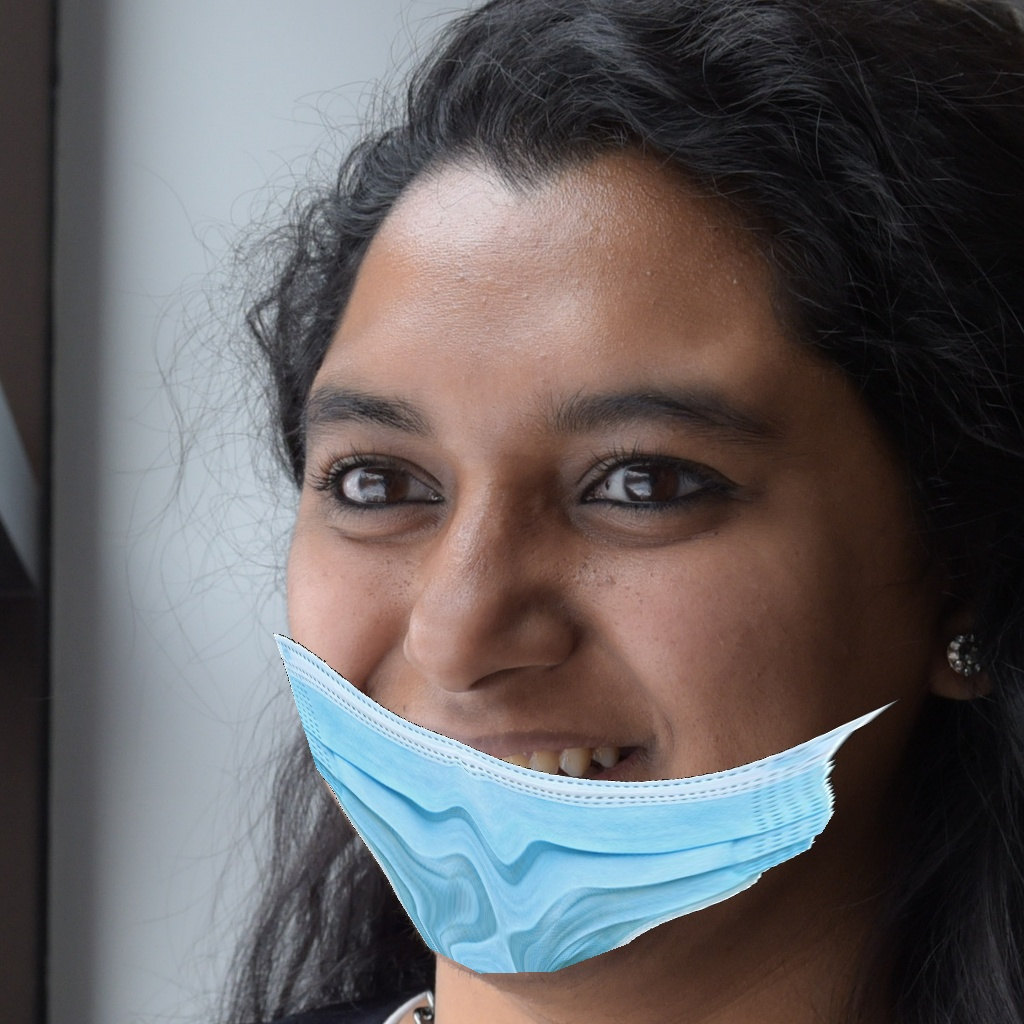mask_weared_incorrect: (281, 371, 808, 974)
